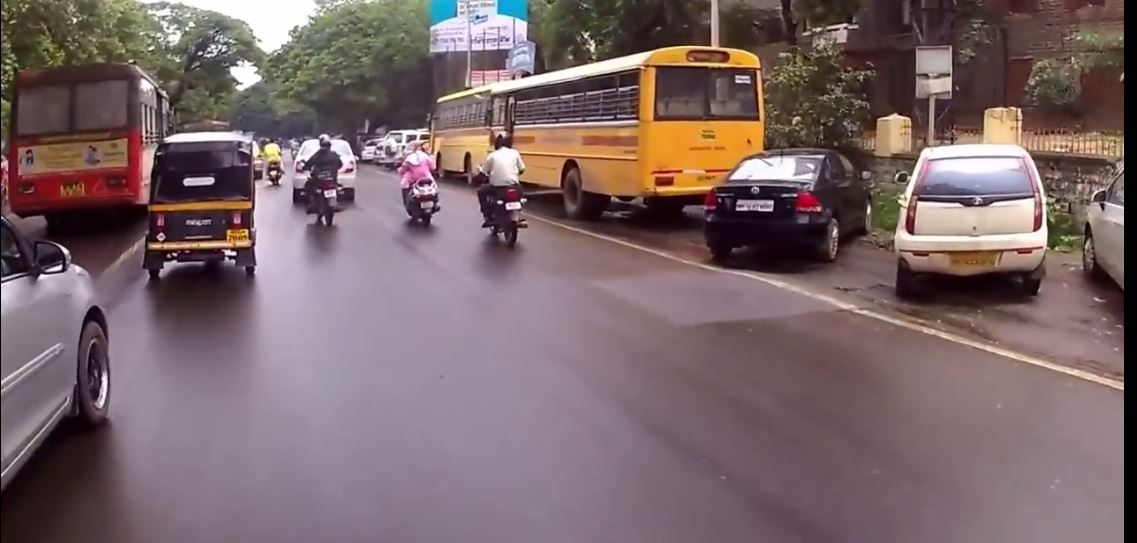autorickshaw: (141, 128, 273, 295)
car: (1, 198, 122, 523), (886, 138, 1060, 311), (705, 143, 881, 283), (1078, 150, 1125, 315), (380, 124, 430, 169)
